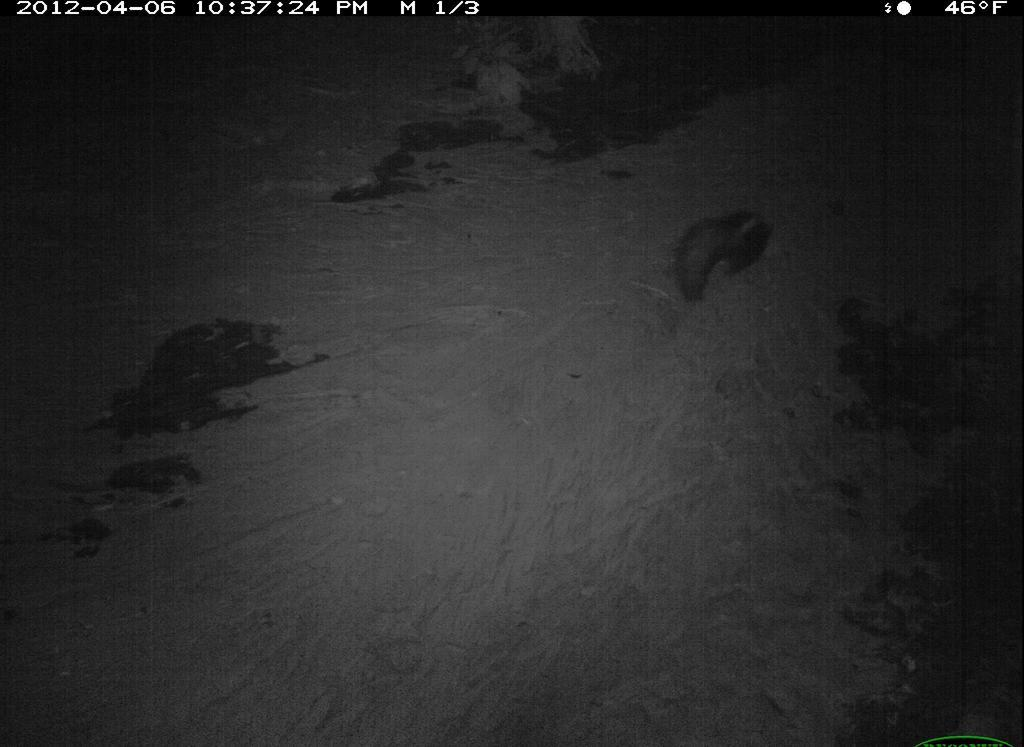skunk: (661, 198, 786, 312)
